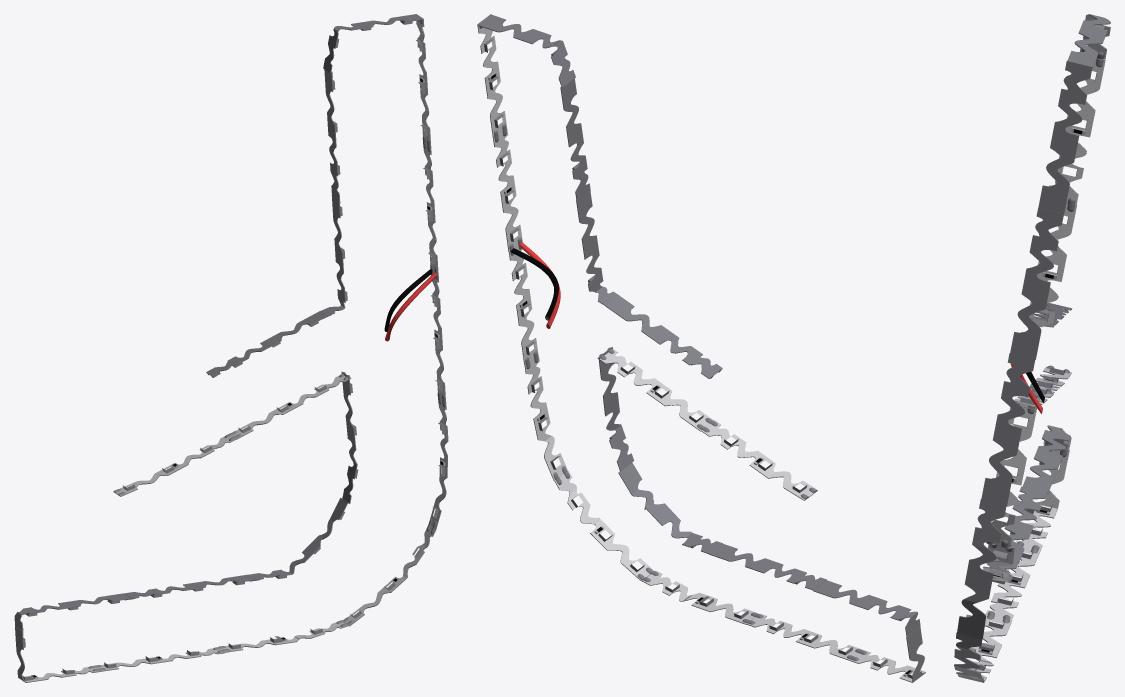
The model's file is fixed-led.glb.
3 views of the same model, side by side, from view 1: azimuth 30°, elevation 25°; view 2: azimuth 150°, elevation 25°; view 3: azimuth 270°, elevation 25° (orthographic). The views are drawn at different scales.
Visible parts, largest first — view 1: fixed-led; view 2: fixed-led; view 3: fixed-led.
Boxes of the visible parts, box(x1,y1,x2,y2) form: fixed-led: box(14, 14, 448, 682); fixed-led: box(477, 14, 925, 682); fixed-led: box(954, 14, 1110, 682).
Bounding box in the file's own units: 37.46 × 48.1 × 9.76.
